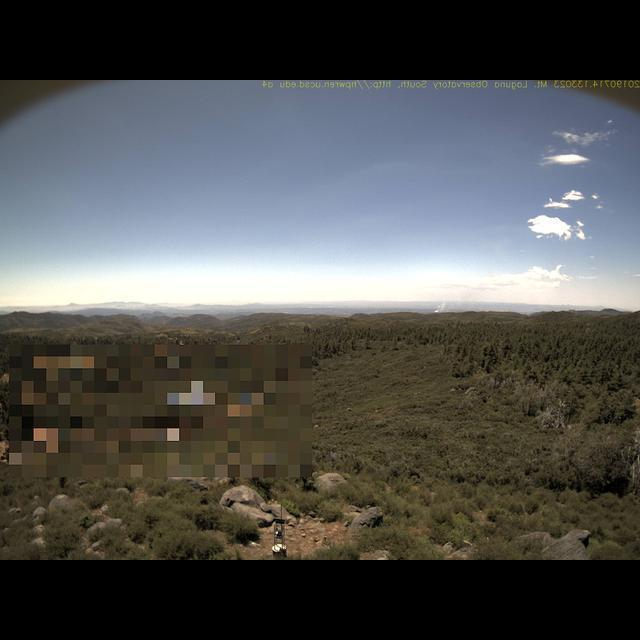Smoke: (429, 291, 453, 314)
